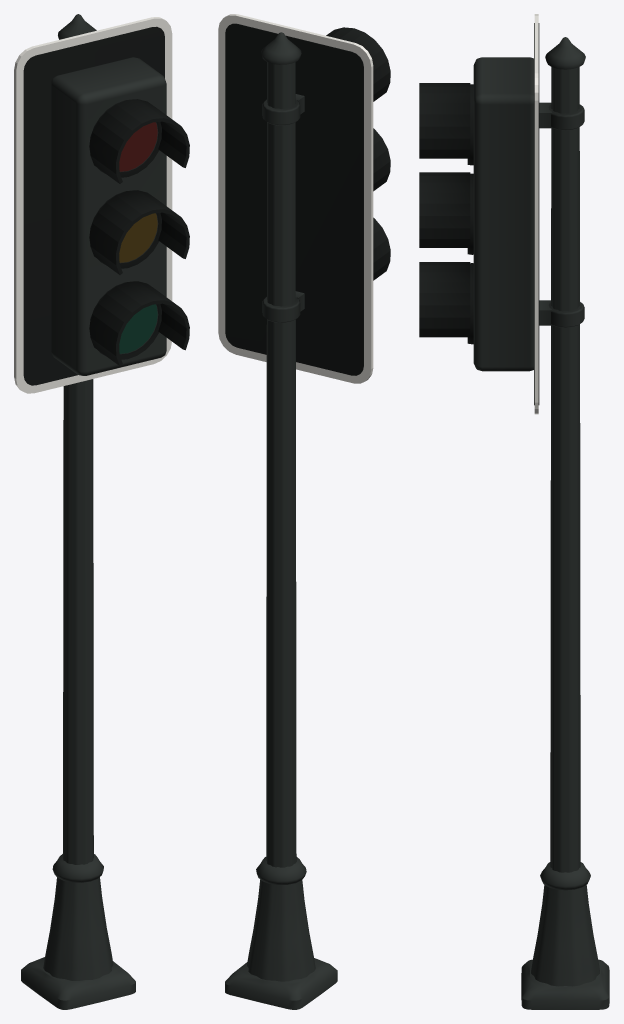
Rendered from trafficLight.glb.
3 views of the same model, side by side, from view 1: azimuth 30°, elevation 25°; view 2: azimuth 150°, elevation 25°; view 3: azimuth 270°, elevation 25° (orthographic).
Visible parts, largest first — view 1: trafficLight; view 2: trafficLight; view 3: trafficLight.
Boxes of the visible parts, x1,y1,x2,y2 form: trafficLight: (14,14,189,1009); trafficLight: (218,14,390,1009); trafficLight: (419,14,609,1009).
Size of the model in its own units: 0.52 by 3.1 by 0.56.
